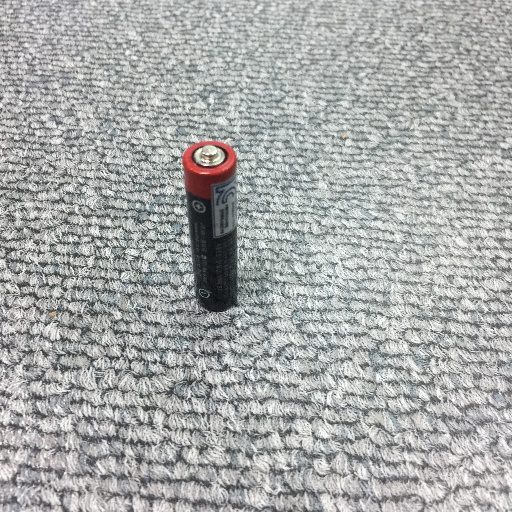Battery_0: (175, 133, 249, 322)
